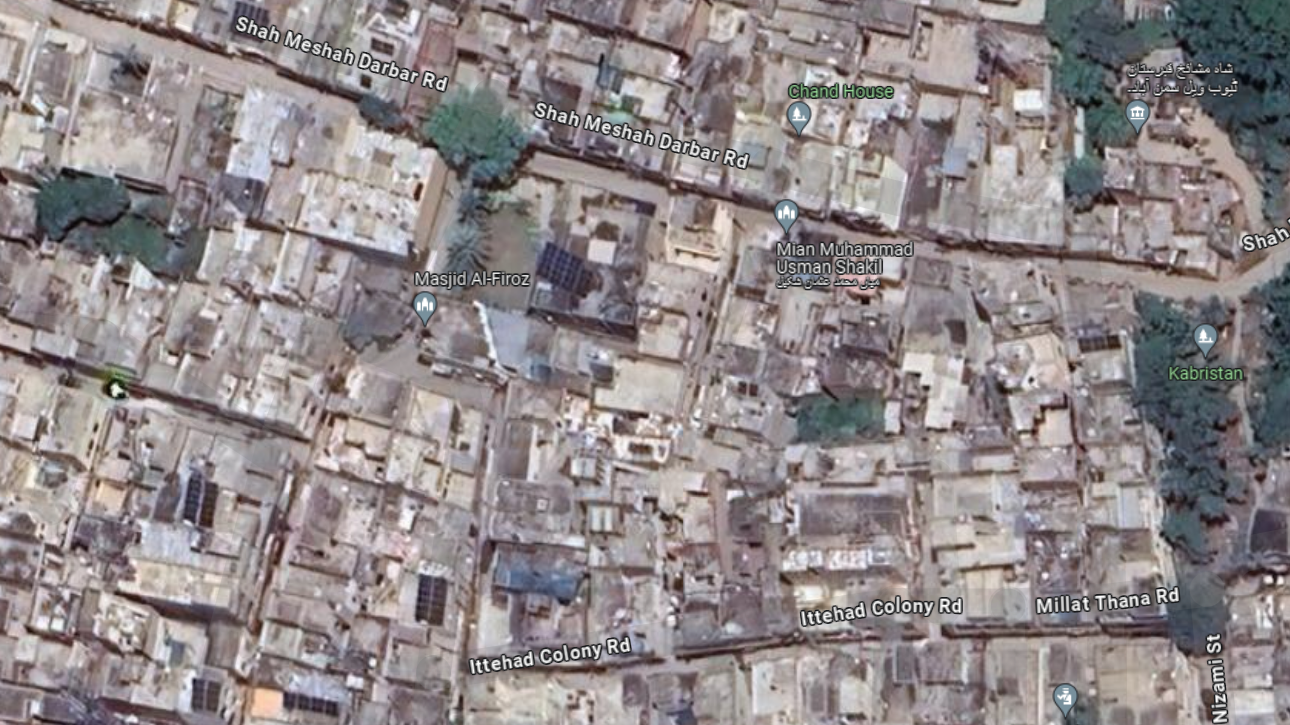solar-panel: (413, 568, 453, 628), (280, 683, 344, 717), (186, 472, 218, 528), (546, 242, 587, 285), (187, 679, 227, 717), (1075, 334, 1127, 352), (236, 3, 275, 26)
